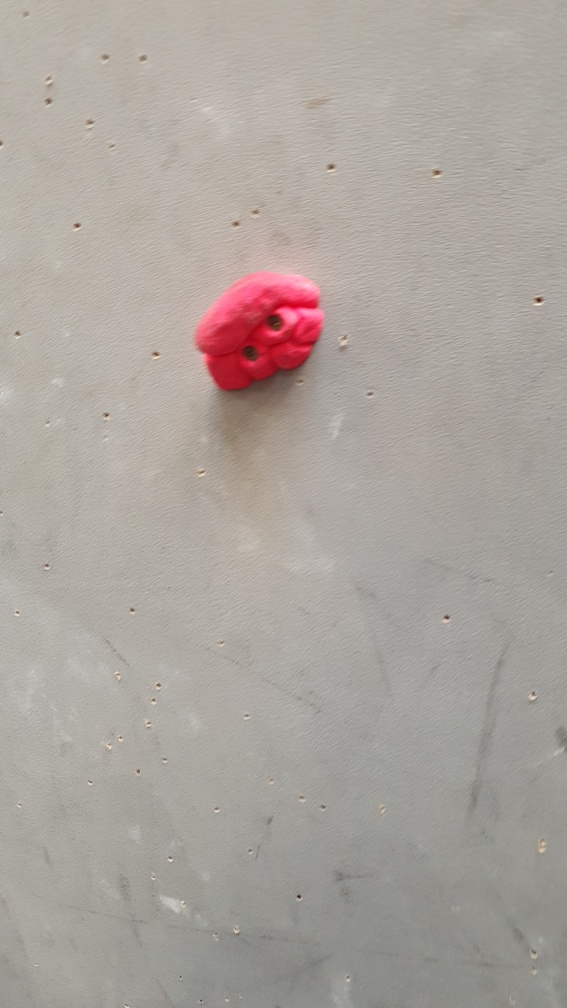Jug: (192, 267, 325, 392)
